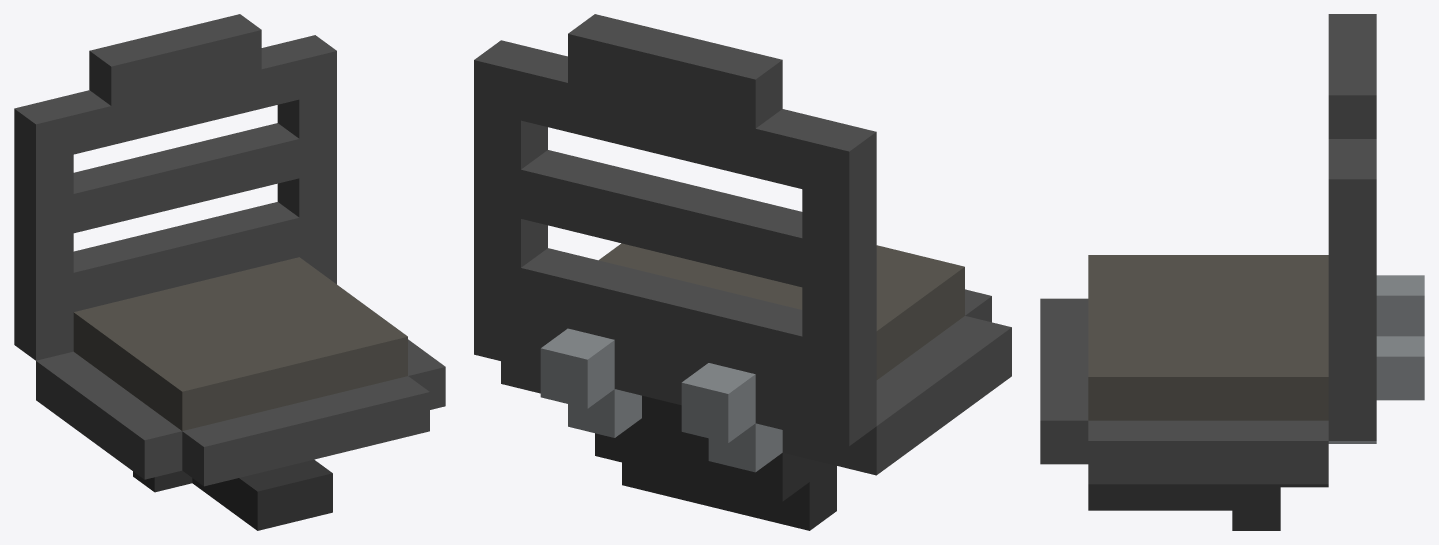
The model's file is Other-8.obj.
3 renders of one model, left to right at view 1: azimuth 30°, elevation 25°; view 2: azimuth 150°, elevation 25°; view 3: azimuth 270°, elevation 25°, orthographic. The views are drawn at different scales.
Bounding box in the file's own units: 0.8 × 1 × 0.8.
1 material, 1 textured.
